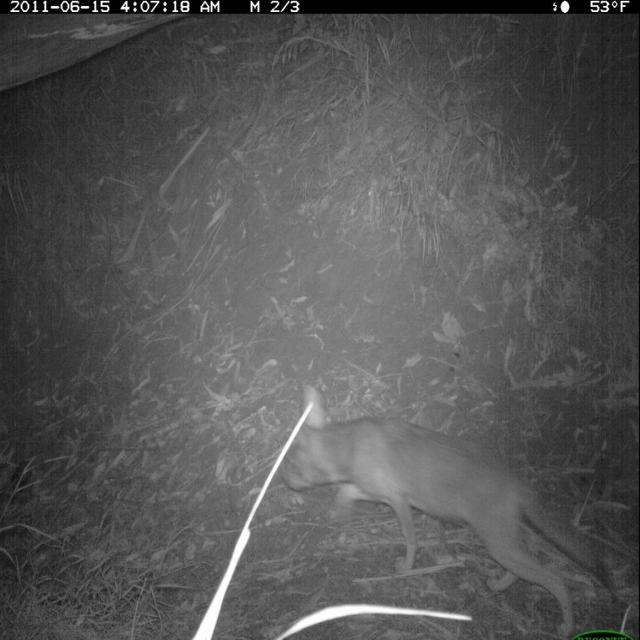coyote: (265, 370, 623, 640)
